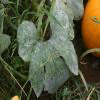Squash Powdery mildew leaf: (16, 8, 79, 98)
